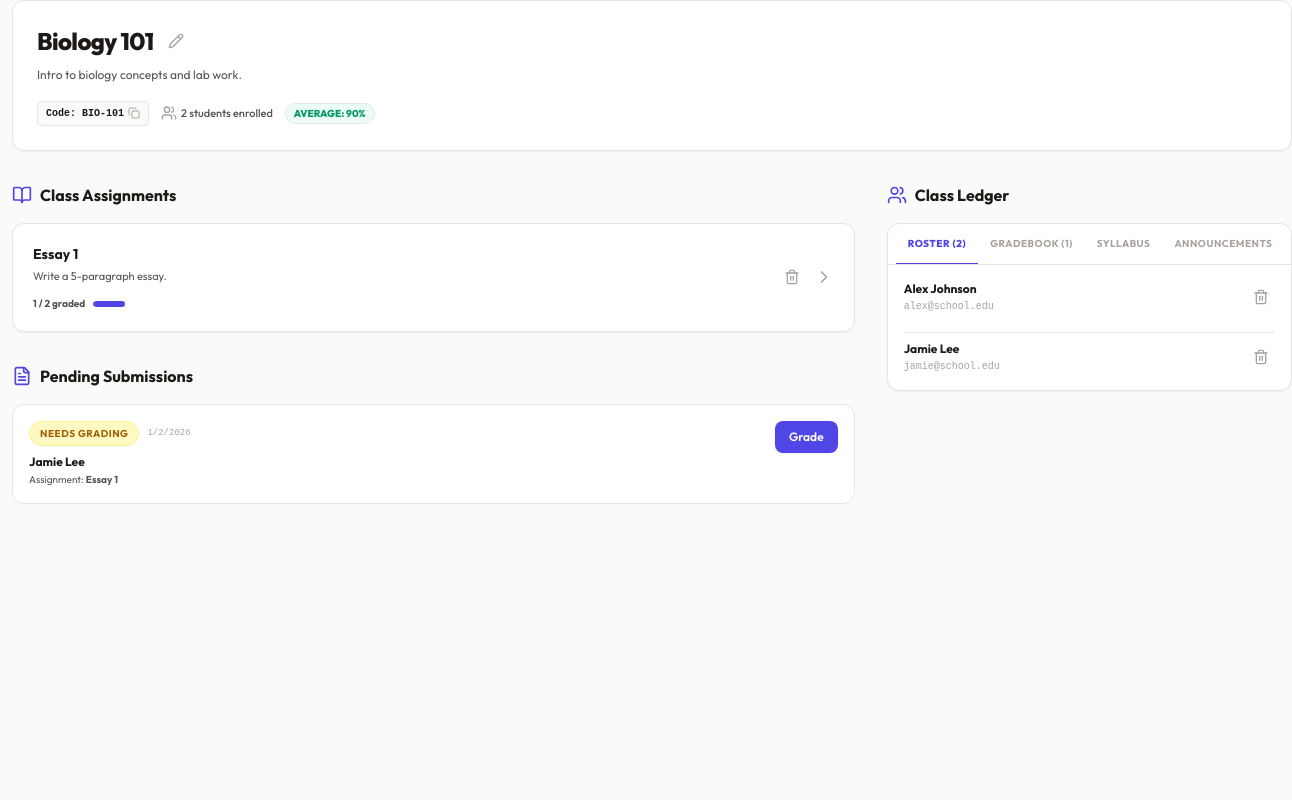
it: TeacherClassDetailPage › edits class info: opens pre-filled, cancels without saving
The image size is (1292, 800).
Expected: the heading "Biology 101" is shown, [37,25,154,57]
Click the button titled "Edit class details". click: [176, 41]
box: [162,27,190,55]
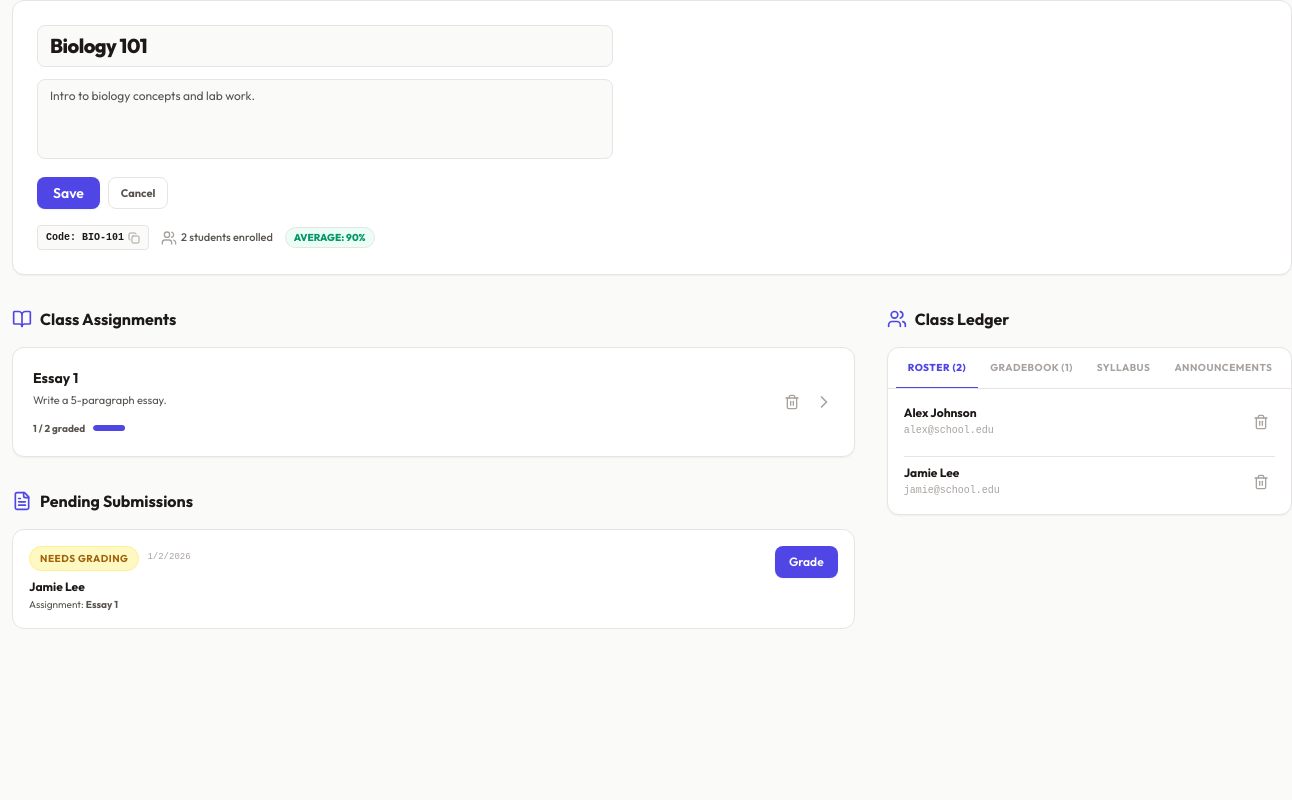
Replace the text in the field showing "Biology 101" with "Changed Name". click: [325, 46]
box: [37,25,613,67]
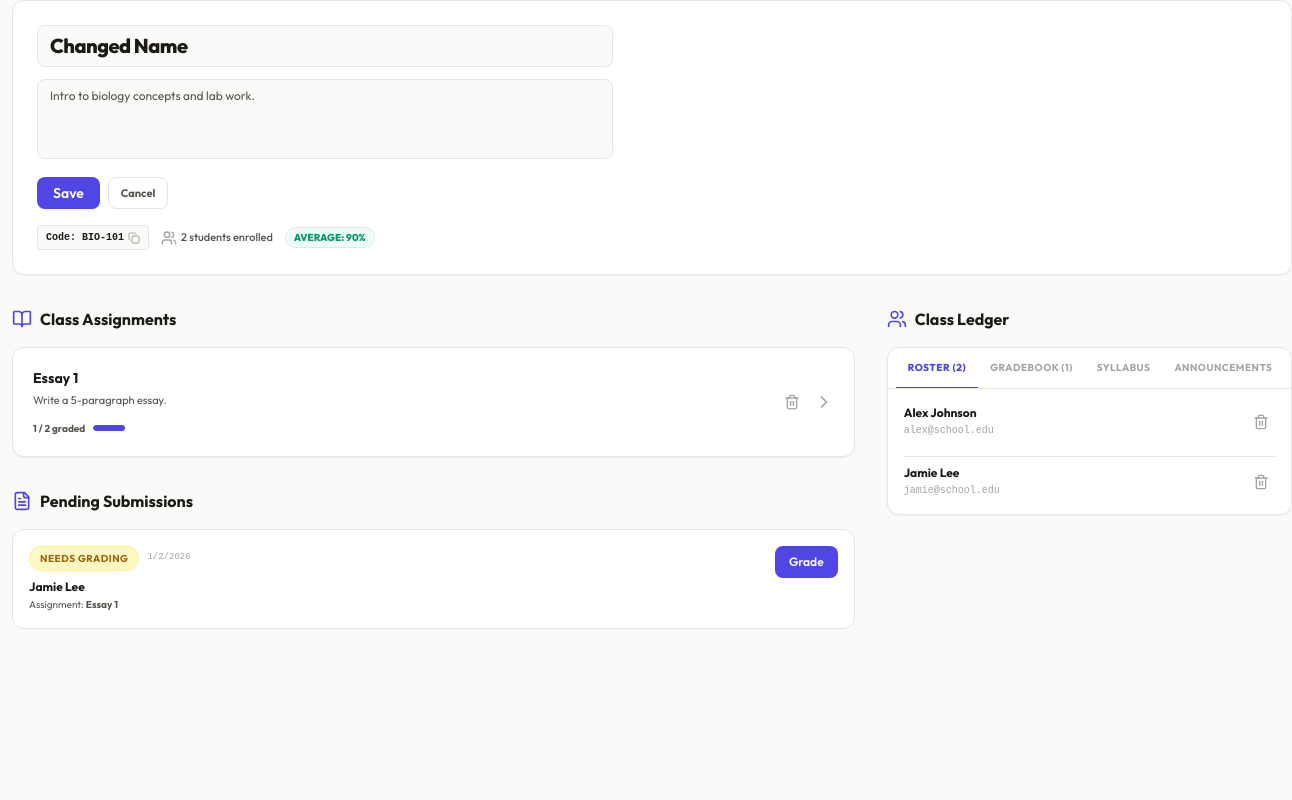
Click the button "Cancel". click: [138, 193]
box: [108,177,168,209]
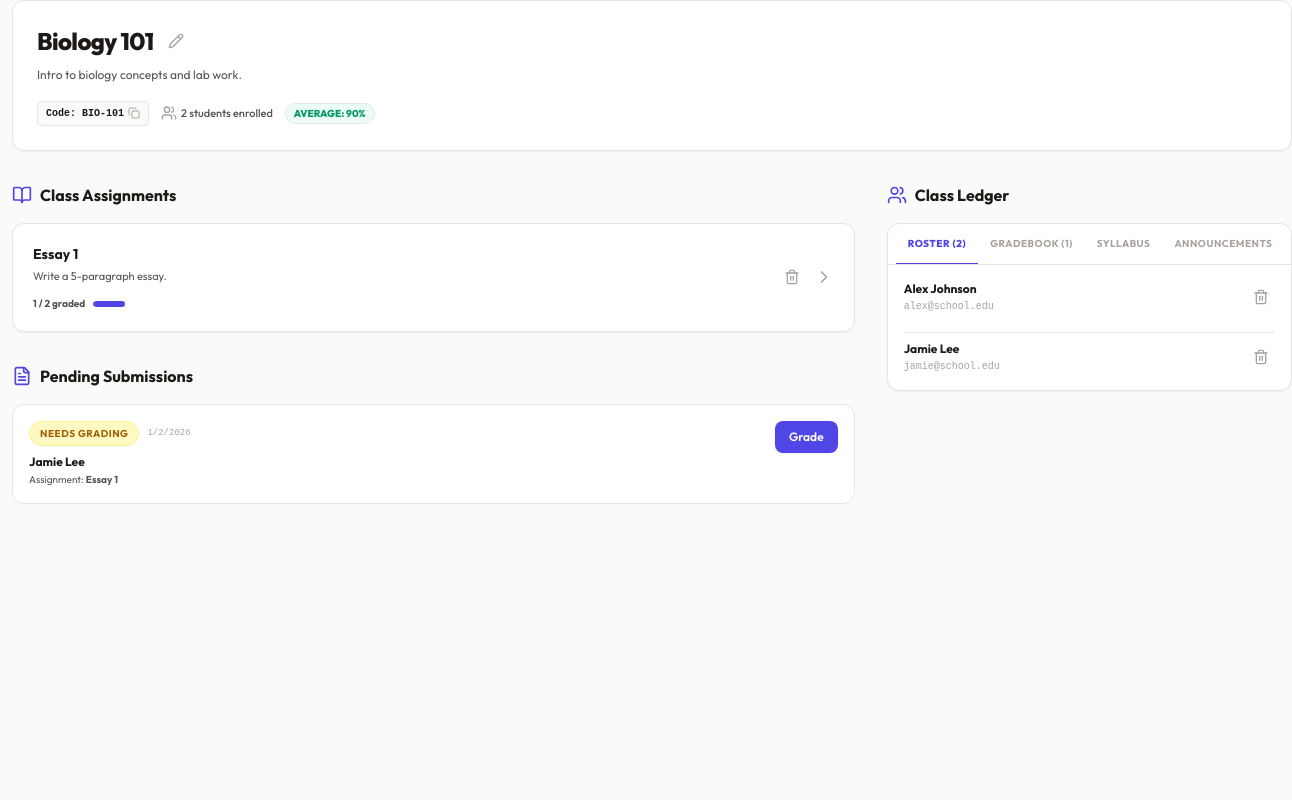
Expected: the text "Changed Name" is not shown
Now the heading "Biology 101" is shown, box [37,25,154,57]
